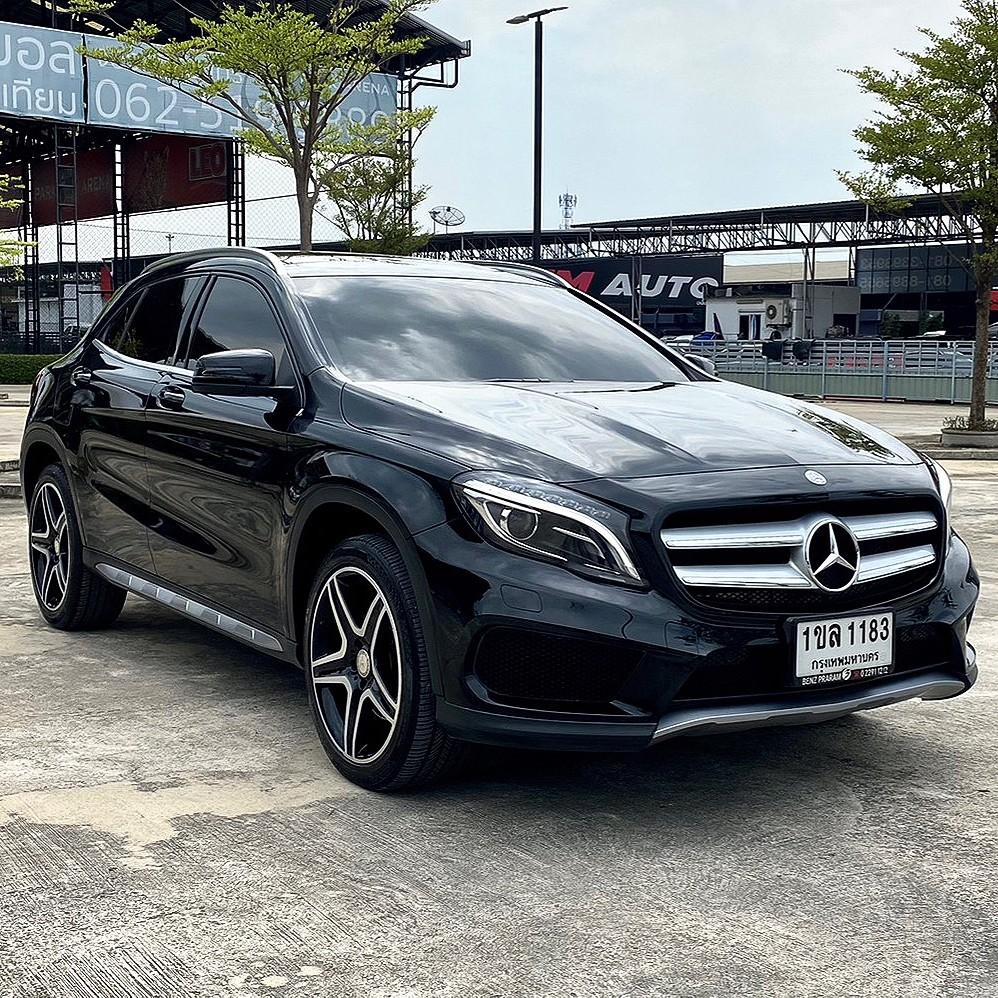license-plate: (783, 607, 899, 696)
